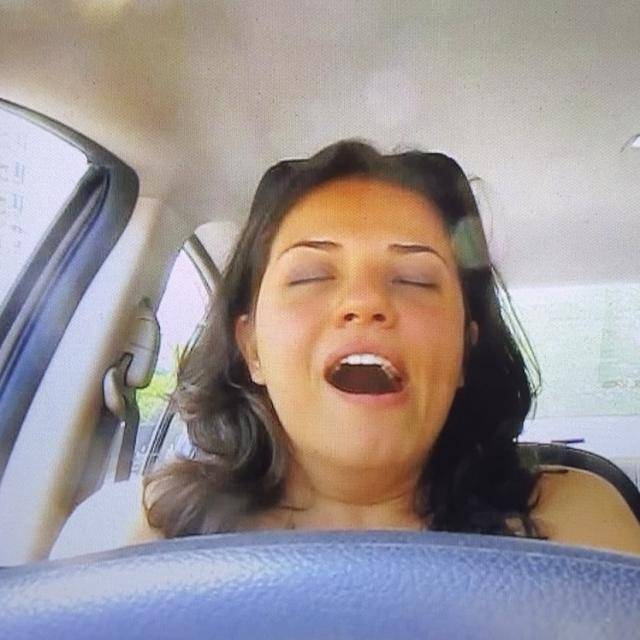close: (272, 234, 353, 298), (382, 237, 453, 304)
